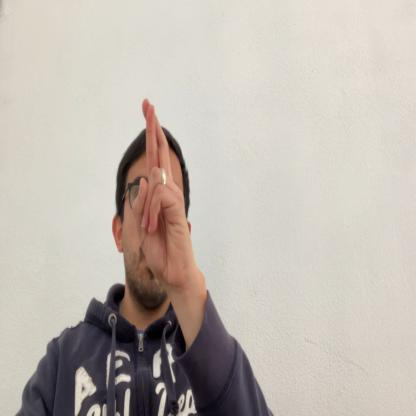R: (132, 96, 194, 294)
